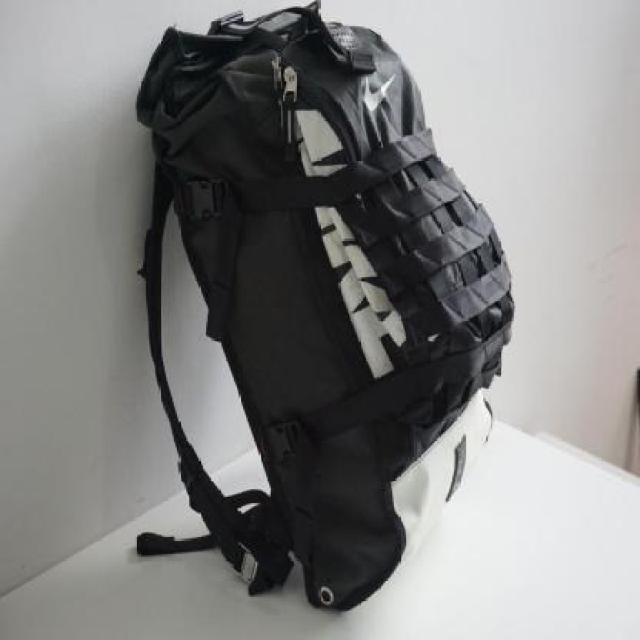backpack: (132, 0, 517, 623)
